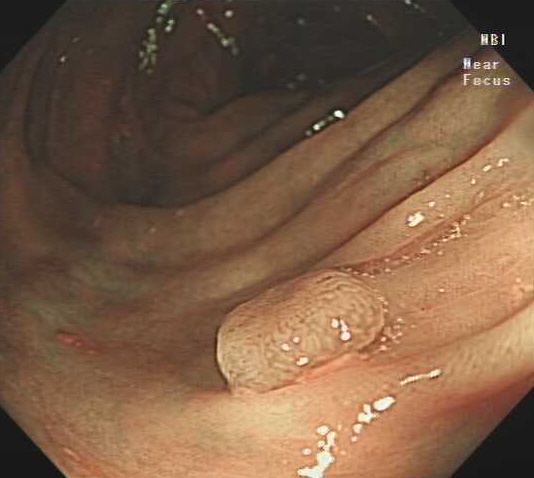adenoma: (212, 266, 386, 392)
